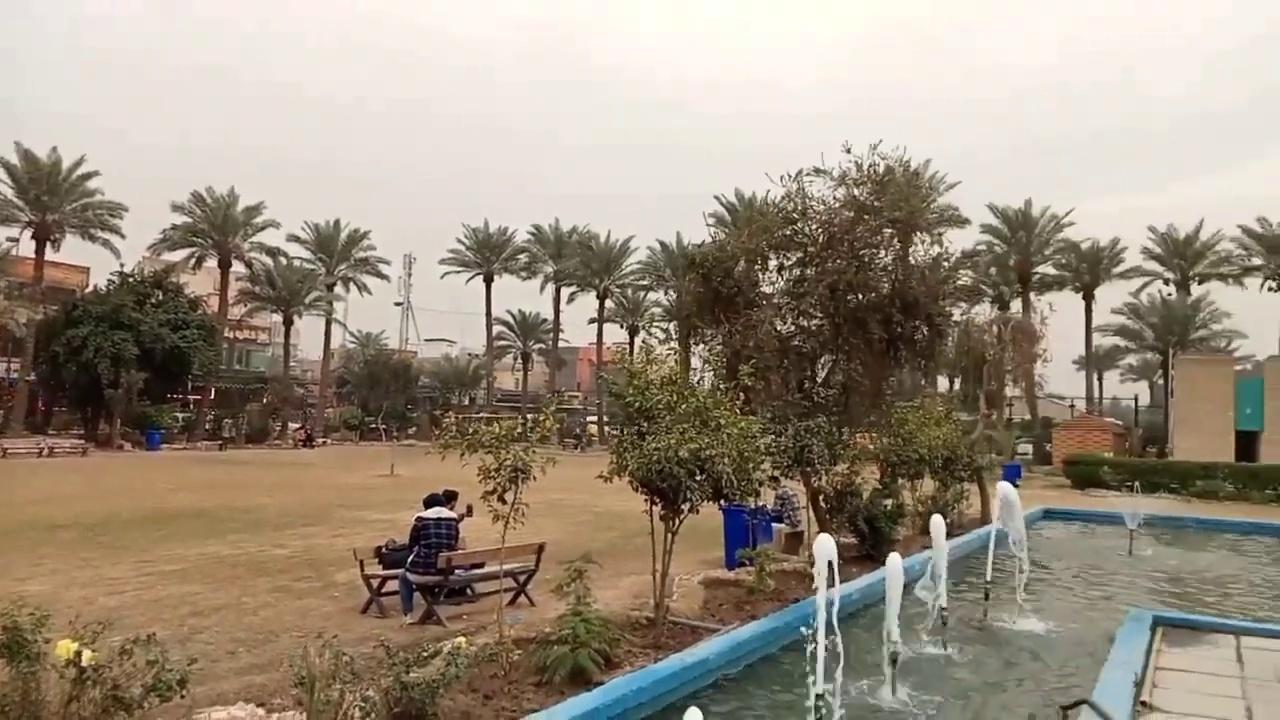car: (1013, 435, 1052, 457)
fountain: (520, 484, 1278, 718), (798, 478, 1040, 717), (800, 531, 845, 717), (983, 478, 1032, 605), (875, 550, 908, 708), (913, 511, 950, 628), (880, 550, 905, 647), (1117, 478, 1146, 555)
person: (398, 491, 461, 627), (438, 488, 477, 601), (767, 475, 802, 529)
tree: (687, 137, 981, 559), (594, 347, 772, 644), (807, 138, 972, 423), (0, 139, 128, 431), (424, 405, 561, 674), (51, 260, 224, 446), (966, 196, 1077, 462), (145, 183, 281, 385), (1094, 287, 1235, 457), (284, 216, 392, 433), (695, 186, 793, 411), (230, 246, 335, 440), (550, 228, 640, 443), (437, 216, 531, 407), (864, 391, 985, 538), (1120, 216, 1241, 356), (1046, 235, 1130, 414), (518, 216, 594, 396), (763, 405, 850, 561), (634, 230, 712, 389), (1210, 213, 1279, 358), (335, 328, 419, 440), (1130, 216, 1228, 299), (489, 307, 556, 421), (589, 288, 659, 363), (1219, 213, 1279, 293), (341, 327, 390, 415), (1071, 341, 1125, 414), (428, 350, 489, 408), (392, 250, 421, 353)
